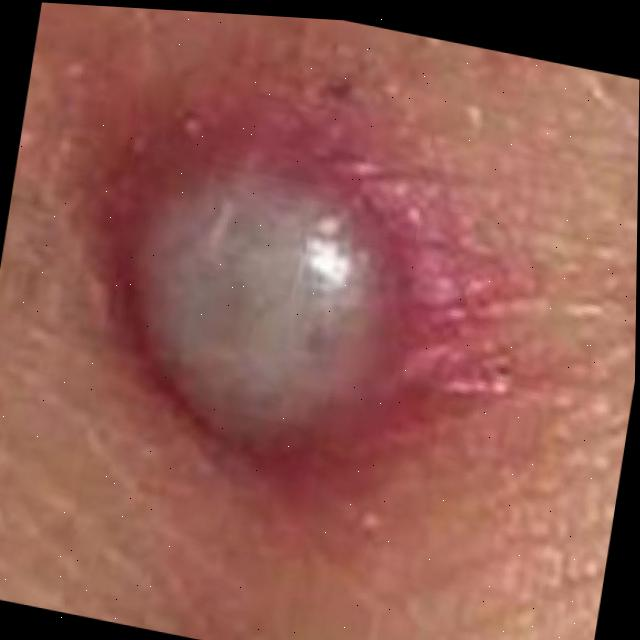Eczema: (84, 126, 467, 446)
